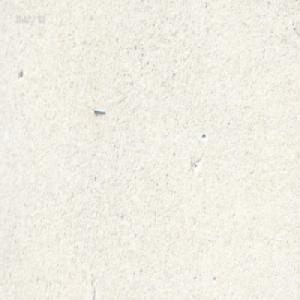Nail: (92, 105, 105, 113)
